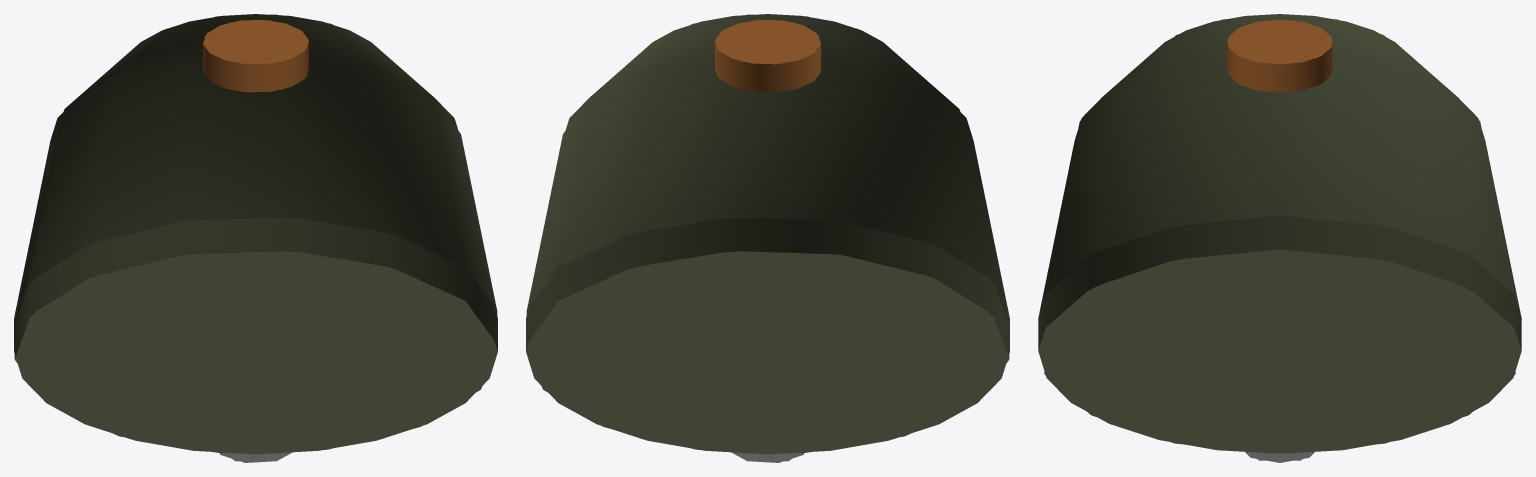
File: mn_bounce.glb
The picture shows the model from 3 angles, left to right: view 1: azimuth 30°, elevation 25°; view 2: azimuth 150°, elevation 25°; view 3: azimuth 270°, elevation 25°; orthographic projection.
Parts seen in each view (by area): view 1: L1, L0; view 2: L1, L0; view 3: L1, L0.
Part boxes in pixels (x1,y1,x2,y2): L1: [14, 14, 497, 461]; L0: [14, 14, 497, 462]; L1: [526, 14, 1009, 461]; L0: [526, 14, 1009, 462]; L1: [1044, 14, 1515, 460]; L0: [1038, 14, 1521, 462].
Size of the model in its own units: 0.14 by 0.129 by 0.14.
